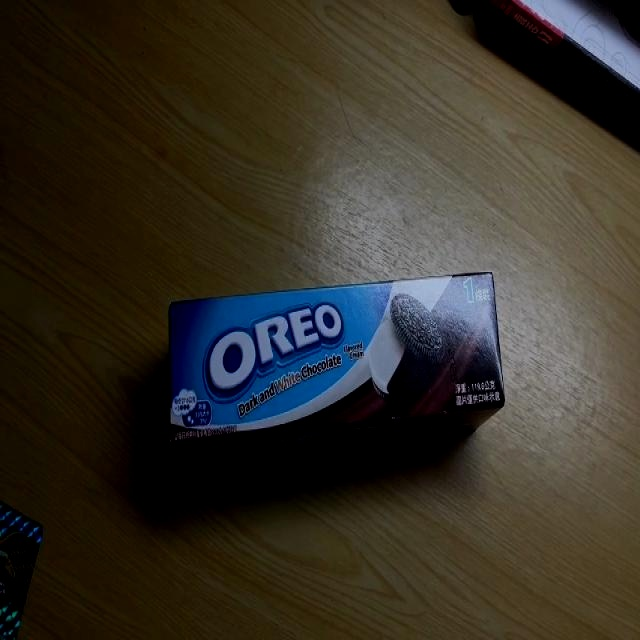Oreo: (168, 268, 507, 468)
